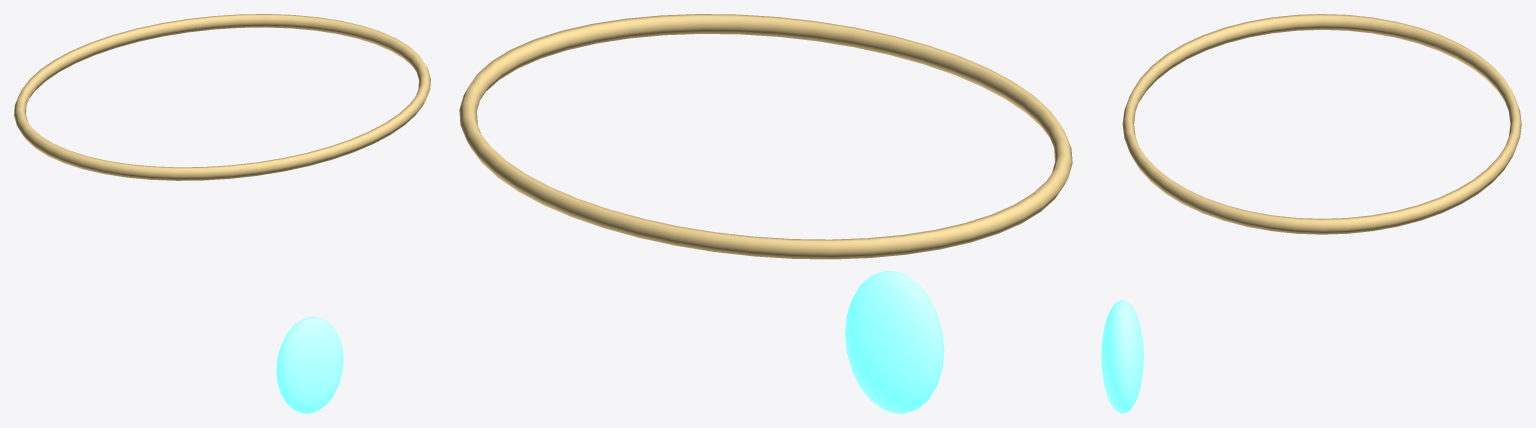
Rendered from necklace.glb.
The picture shows the model from 3 angles, left to right: view 1: azimuth 30°, elevation 25°; view 2: azimuth 150°, elevation 25°; view 3: azimuth 270°, elevation 25°; orthographic projection. The views are drawn at different scales.
Visible parts, largest first — view 1: necklace; view 2: necklace; view 3: necklace.
Boxes of the visible parts, left/top/right/bottom form: necklace: left=14, top=14, right=430, bottom=413; necklace: left=459, top=14, right=1072, bottom=413; necklace: left=1101, top=14, right=1521, bottom=413.
Bounding box in the file's own units: 0.175 × 0.1135 × 0.1475.
